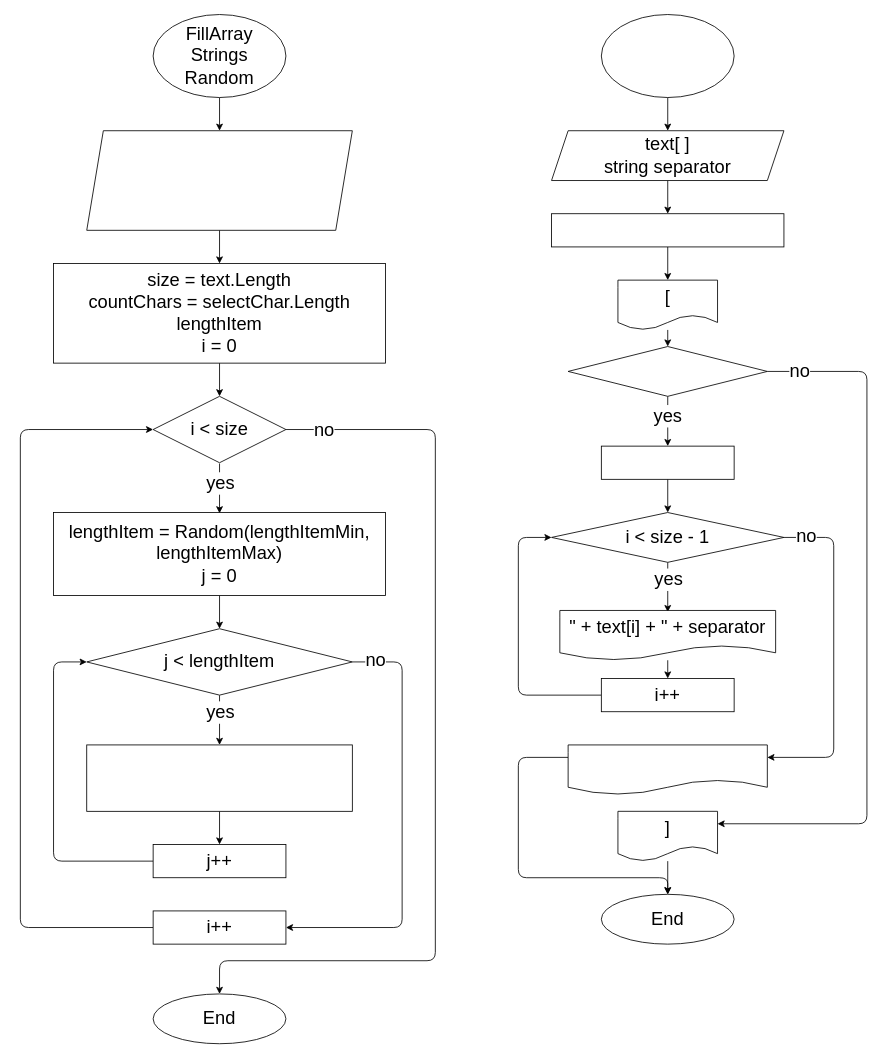
This 888x1058 diagram has some shape labels left out. The centre of each missing label's shape, as x and y in pixels:
" + text[size - 1] + " ]: (x=667, y=769)
i = 0: (x=667, y=462)
PrintArray Strings: (x=667, y=56)
size = text.Length: (x=667, y=230)
size > 0: (x=667, y=371)
text[ ] string selectChar lengthItemMin lengthItemMax: (x=219, y=180)
text[i] += selectChar[Random (0, countChars)]: (x=219, y=777)
